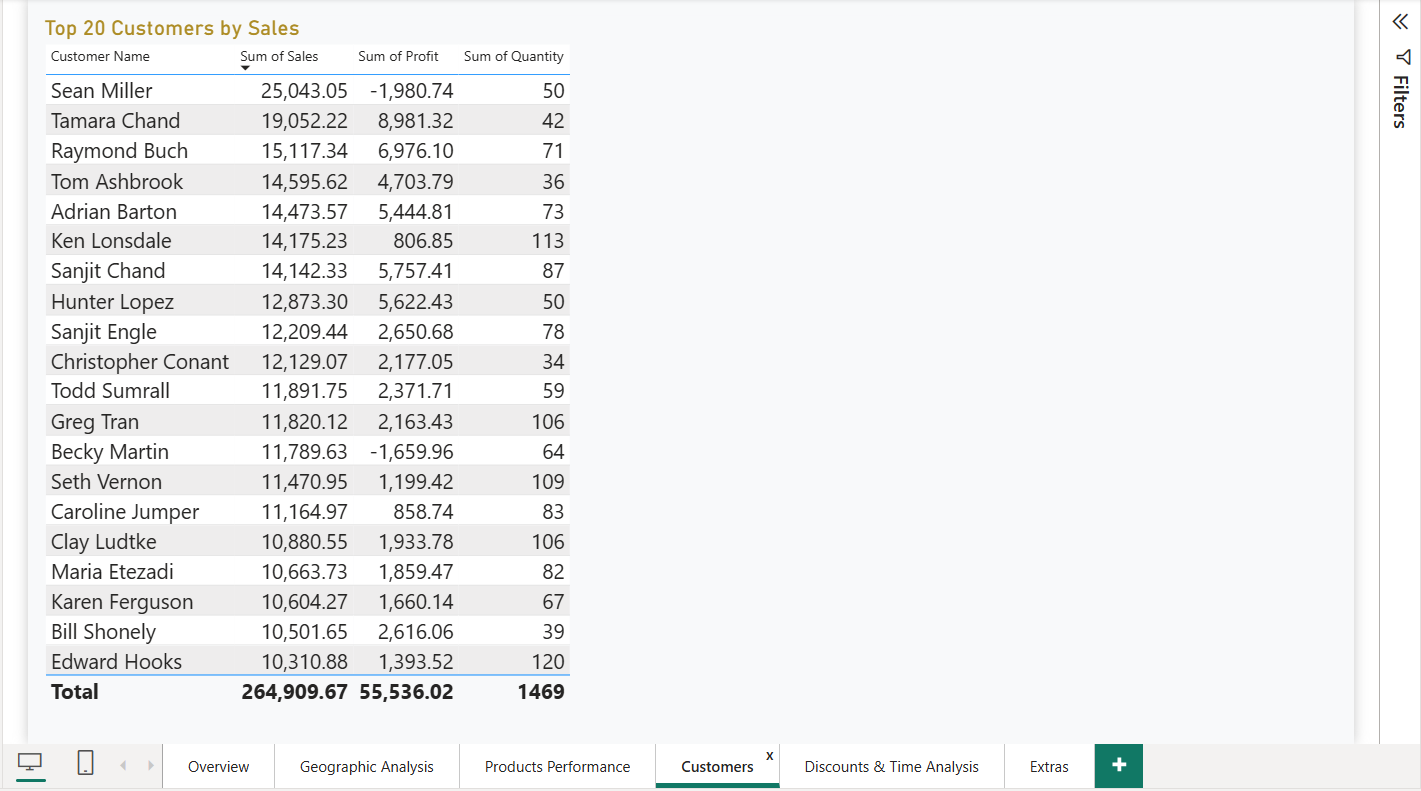

What the dashboard file says about the page in this screenshot:
{"tool":"powerbi","page":{"name":"Customers ","canvas":[1280,720],"ordinal":3},"visuals":[{"type":"tableEx","title":"Top 20 Customers by Sales","fields":{"Values":["CRM.Customer Name","Sum(Orders.Sales)","Sum(Orders.Profit)","Sum(Orders.Quantity)"]},"box":[11,16.5,1269.3,703.9],"z":0}]}

Visuals, with their boxes on the page's 1280x720 design canvas (x1, y1, x2, y2). These are canvas units, not pixel positions in the 1421x791 screenshot, which may show the page scaled, cropped or inside an application window:
"Top 20 Customers by Sales" tableEx: region(11, 16, 1280, 720)
